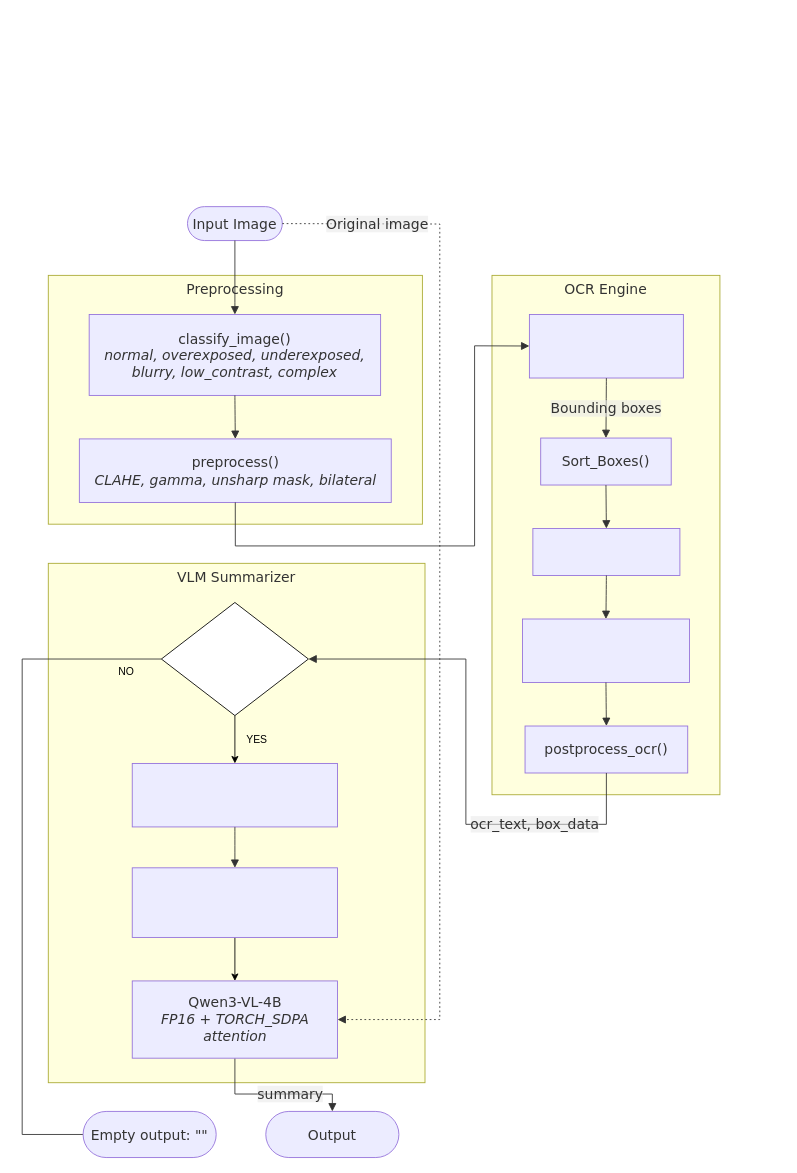
Some shapes in this 797 by 1173 pixel diagram are drawn without their labels. Here are the shapes that lost their labels. From the top down, the centre of each, then its label:
At pixel 606 346: "PP-OCRv5 (Text Detection)".
At pixel 606 552: "Crop_Padding()".
At pixel 234 659: "PROMPT_GATE Has text/brand/logo?".
At pixel 605 650: "VietOCR (Text Recognition)".
At pixel 234 795: "build_ocr_context() Top 16 texts by prominence".
At pixel 234 902: "PROMPT_SUMMARY Inject OCR context + rules".
